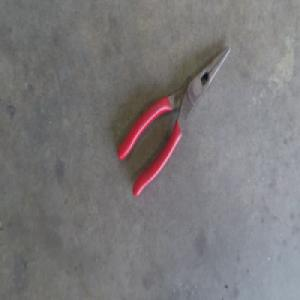Pliers: (116, 43, 233, 200)
